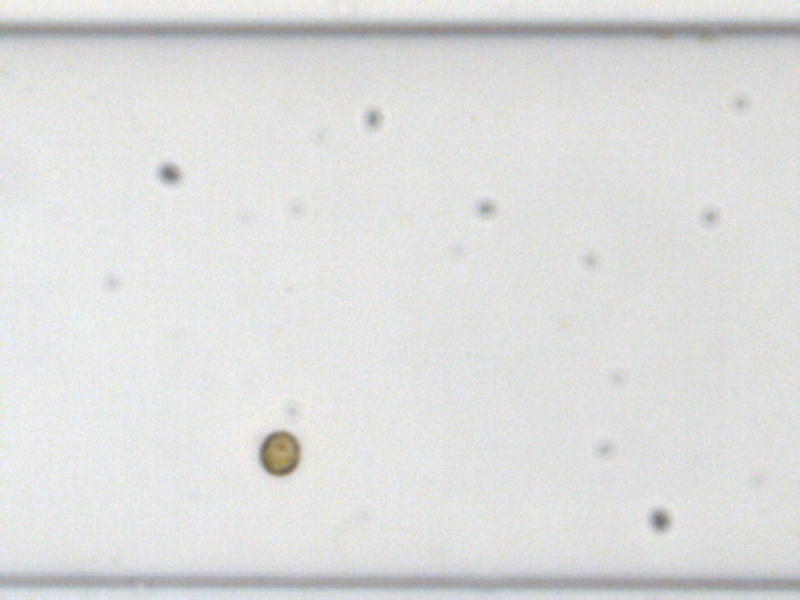Effrenium: (257, 427, 300, 478)
